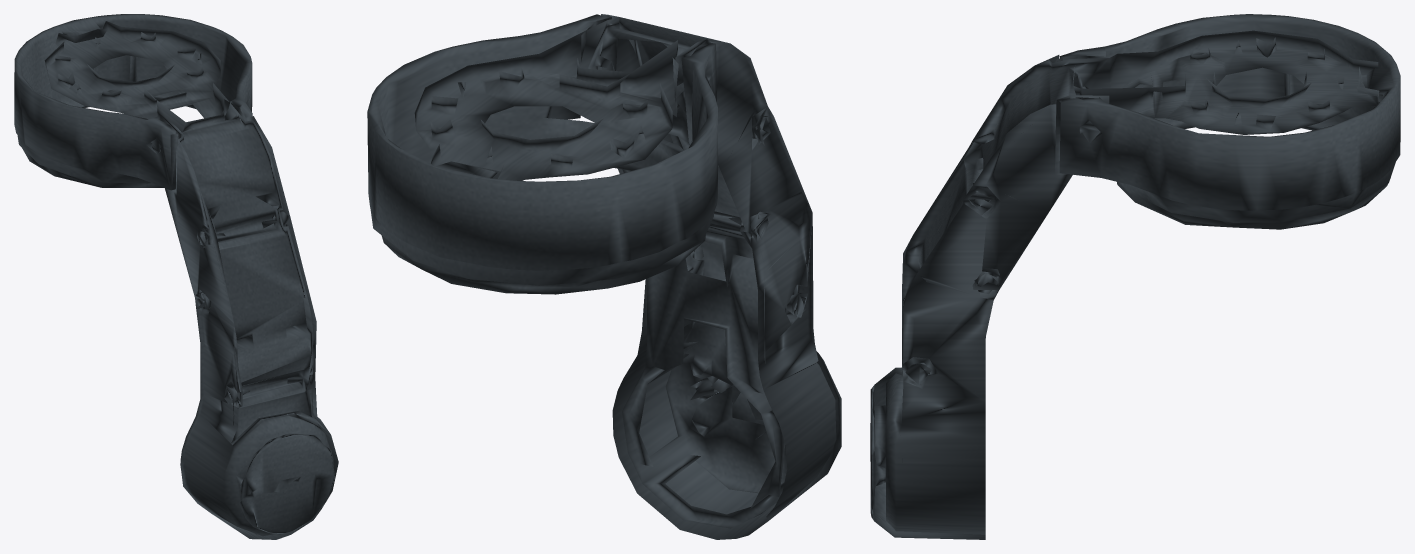
The model's file is cgo3_vertical_arm_link__cgo3_vertical_arm_visual.glb.
The picture shows the model from 3 angles, left to right: view 1: azimuth 30°, elevation 25°; view 2: azimuth 150°, elevation 25°; view 3: azimuth 270°, elevation 25°; orthographic projection. The views are drawn at different scales.
Parts seen in each view (by area): view 1: CGO3 casing; view 2: CGO3 casing; view 3: CGO3 casing.
Part boxes in pixels (left/top/right/bottom): CGO3 casing: left=14, top=14, right=338, bottom=539; CGO3 casing: left=367, top=14, right=841, bottom=539; CGO3 casing: left=870, top=14, right=1400, bottom=539.
Size of the model in its own units: 0.0438 by 0.0752 by 0.0794.
Materials: 1 (1 with a texture image).
